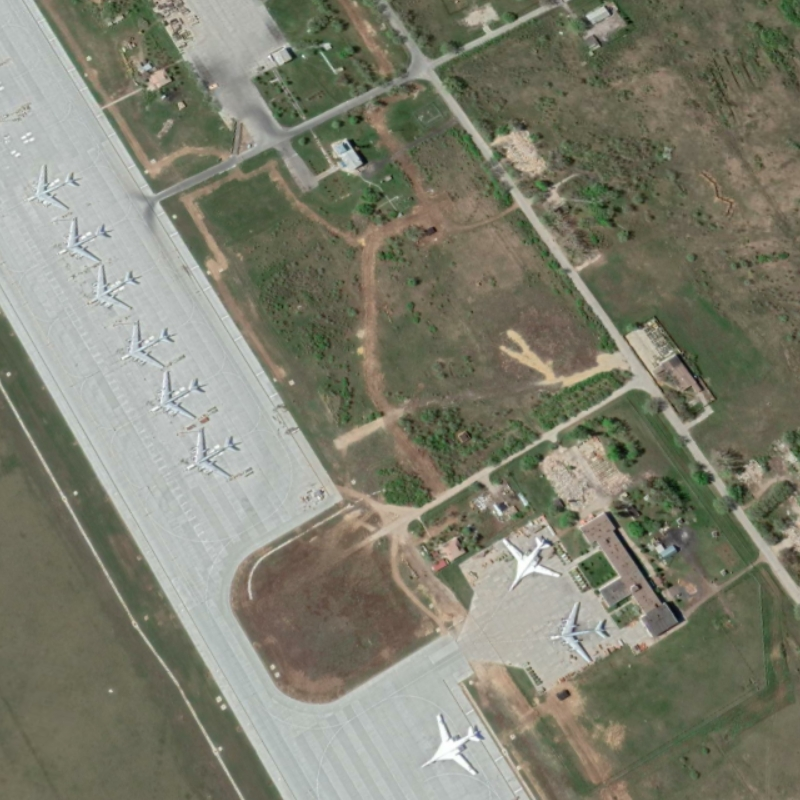A17: (542, 597, 613, 664), (147, 367, 209, 423), (117, 317, 179, 372), (184, 425, 244, 480), (19, 161, 81, 214), (81, 264, 142, 313), (56, 215, 112, 265)
A6: (417, 711, 485, 781), (500, 531, 565, 594)
